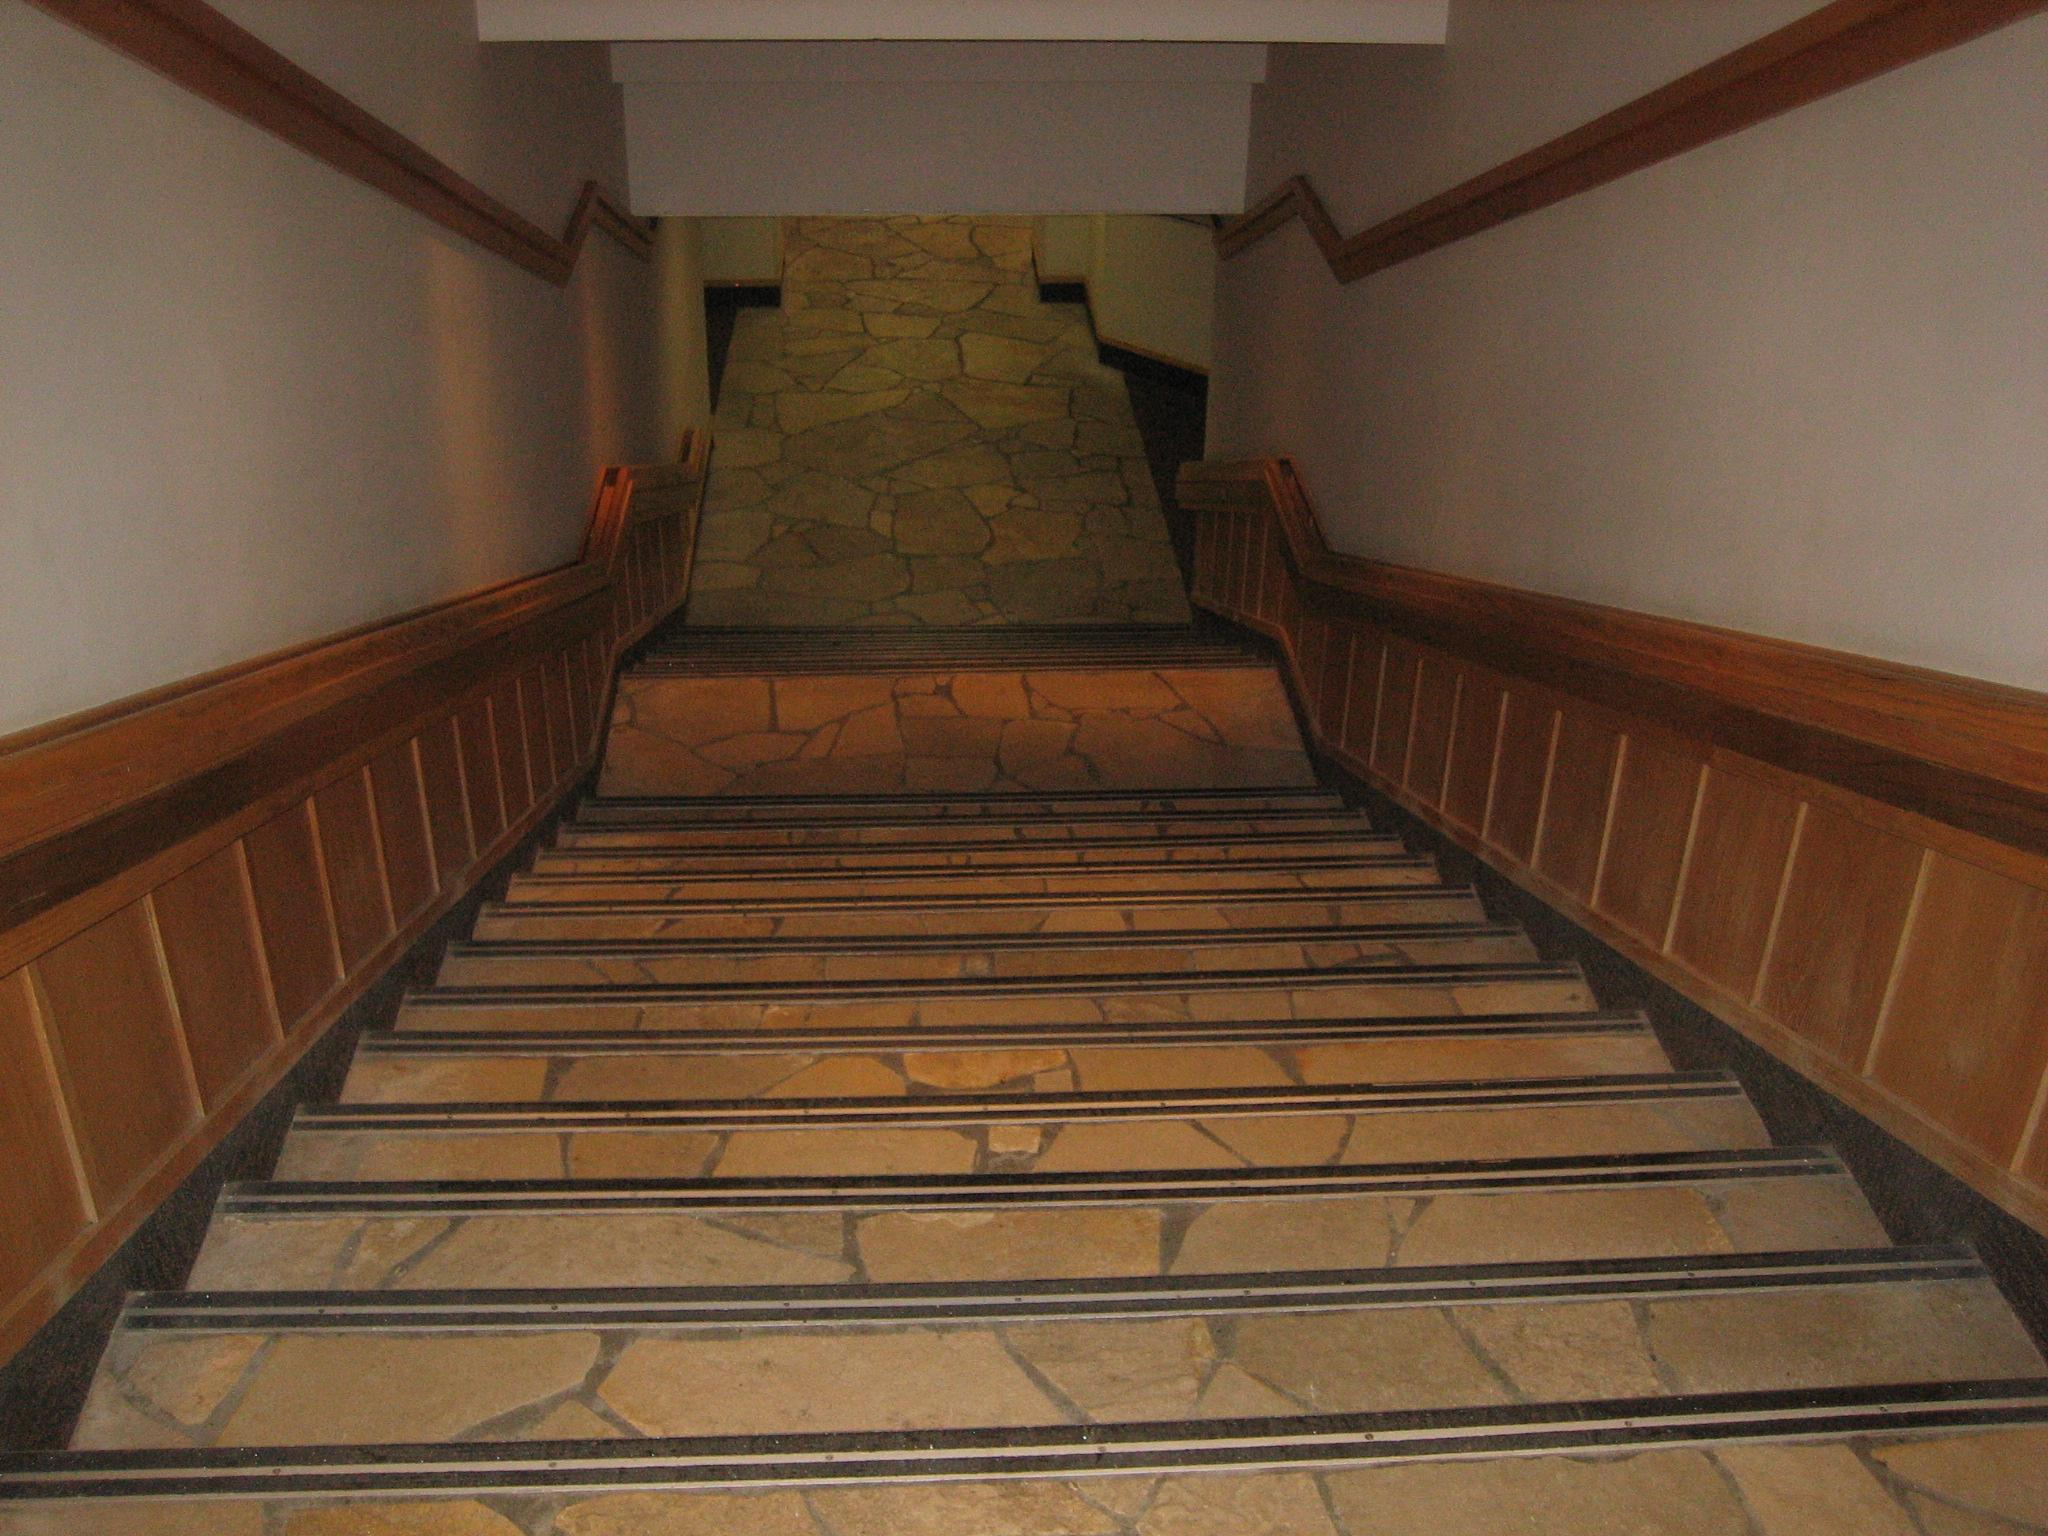Escaleras: (15, 418, 2037, 1534)
